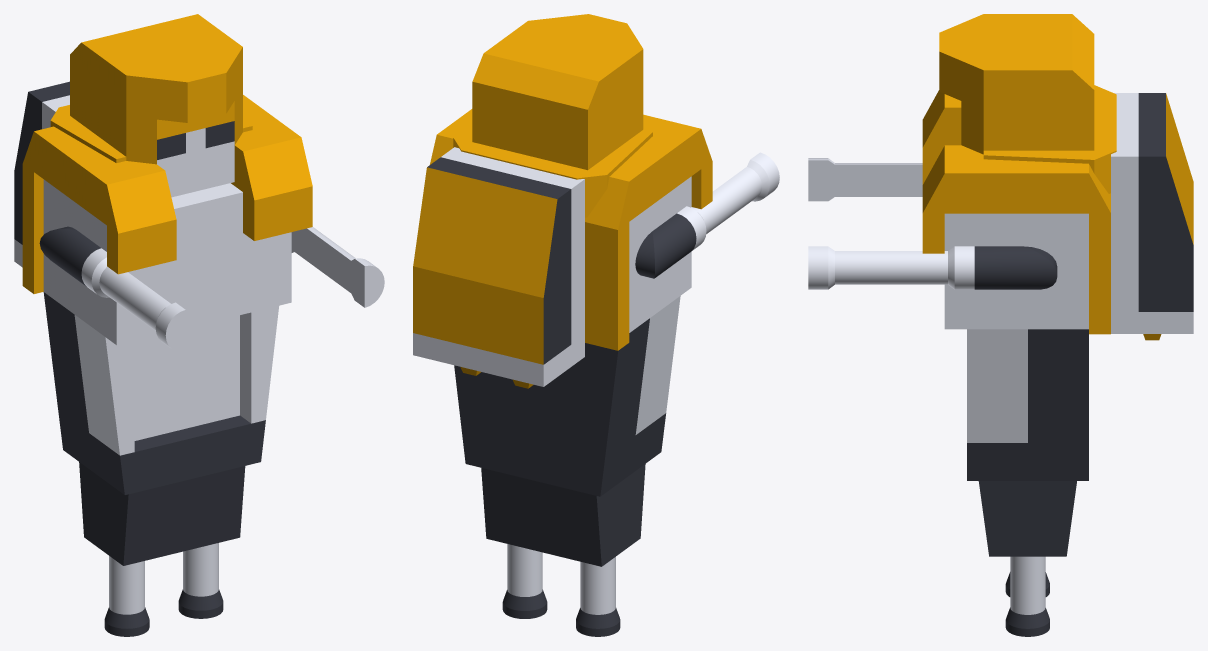
File: Human v1.fbx
3 renders of one model, left to right at view 1: azimuth 30°, elevation 25°; view 2: azimuth 150°, elevation 25°; view 3: azimuth 270°, elevation 25°, orthographic.
Parts seen in each view (by area): view 1: chest_shoulders, head_classic, detail_pipeEnd (×2), pipe_smallBase (×2), weapon_turretSmall; view 2: chest_shoulders, weapon_turretSmall, head_classic, detail_pipeEnd, pipe_smallBase (×2); view 3: chest_shoulders, head_classic, weapon_turretSmall, detail_pipeEnd (×2), pipe_smallBase.
Boxes of the visible parts, x1,y1,x2,y2 form: chest_shoulders: (22,95,312,565); head_classic: (50,14,252,197); detail_pipeEnd (×2): (39,226,384,352); pipe_smallBase (×2): (104,543,223,636); weapon_turretSmall: (14,81,69,267); chest_shoulders: (430,109,712,566); weapon_turretSmall: (413,147,584,388); head_classic: (453,14,652,217); detail_pipeEnd: (635,152,779,278); pipe_smallBase (×2): (502,544,620,636); chest_shoulders: (922,90,1110,556); head_classic: (939,14,1116,193); weapon_turretSmall: (1111,93,1193,340); detail_pipeEnd (×2): (808,158,1057,289); pipe_smallBase: (1005,556,1049,636).
Size of the model in its own units: 5.63 by 14.1 by 8.69.
